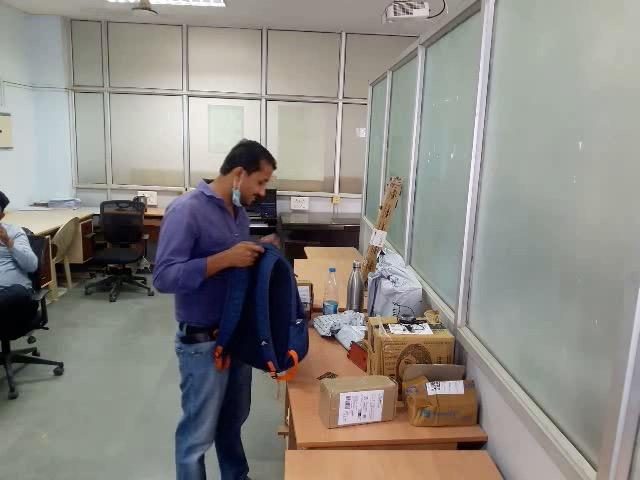shoplifting: (134, 203, 451, 374)
